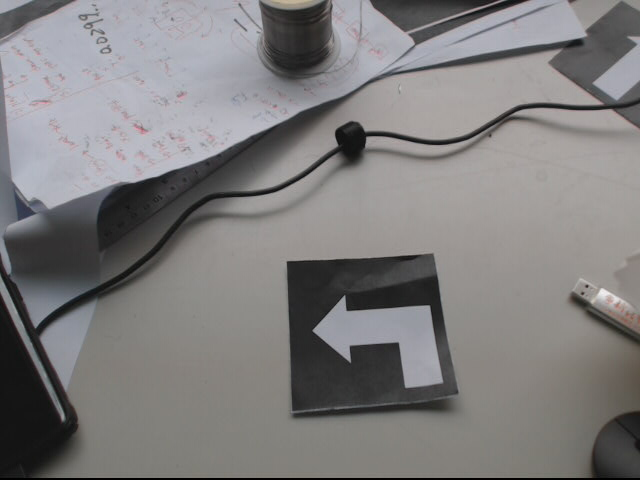left: (288, 251, 461, 415)
